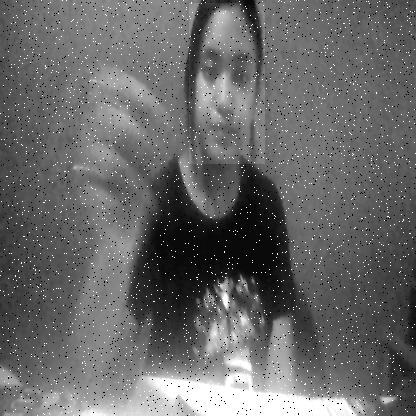Normal: (189, 3, 265, 164)
